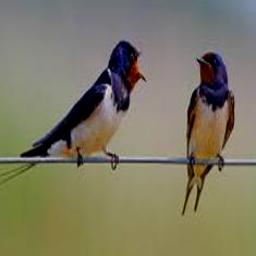Swallow: (0, 39, 149, 184), (183, 48, 234, 216)
